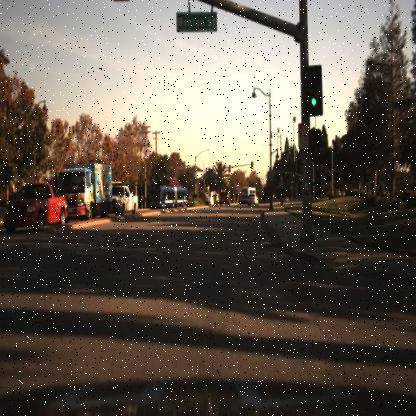car: (3, 182, 68, 235), (111, 184, 138, 220), (236, 187, 257, 207), (216, 187, 232, 208), (246, 192, 262, 207), (246, 192, 258, 209)
truck: (59, 163, 112, 223), (154, 184, 189, 210)
